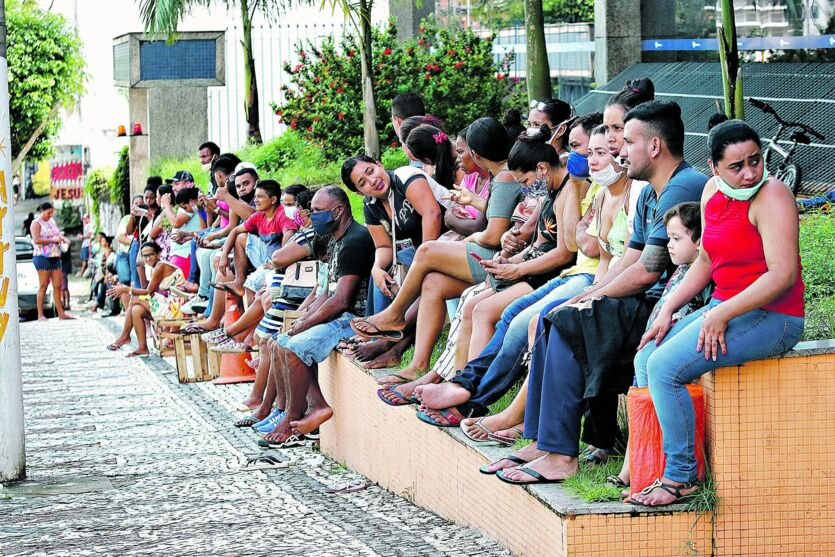mask_weared_incorrect: (703, 128, 771, 200), (601, 102, 643, 169), (587, 129, 615, 191), (231, 176, 256, 203), (197, 148, 218, 171)
with_mask: (311, 198, 350, 236)
without_mask: (141, 246, 160, 267)
